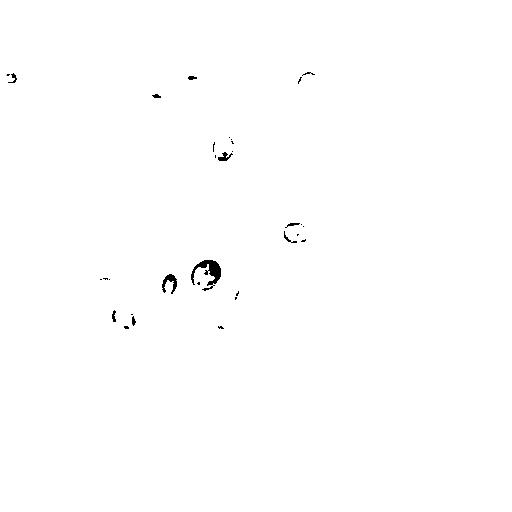micro-algae: (453, 354, 500, 401), (318, 92, 362, 134), (191, 258, 225, 293), (31, 56, 64, 89), (231, 282, 258, 317), (281, 220, 310, 247), (110, 304, 136, 330), (94, 274, 122, 298), (212, 133, 235, 162), (296, 69, 318, 95), (161, 274, 178, 297), (186, 71, 202, 85), (1, 71, 18, 83)
